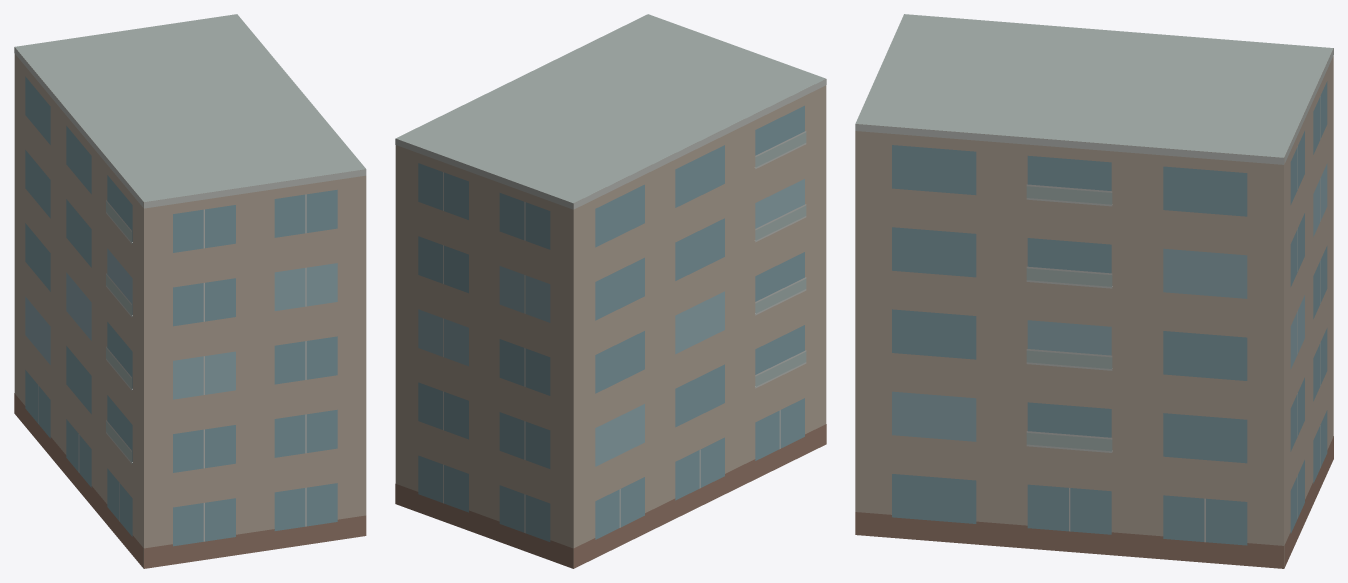
File: survey-upis-32537230.glb
The picture shows the model from 3 angles, left to right: view 1: azimuth 30°, elevation 25°; view 2: azimuth 150°, elevation 25°; view 3: azimuth 270°, elevation 25°; orthographic projection. The views are drawn at different scales.
Parts seen in each view (by area): view 1: survey-upis-32537230.tmp; view 2: survey-upis-32537230.tmp; view 3: survey-upis-32537230.tmp.
Part boxes in pixels (<box>): survey-upis-32537230.tmp: <box>14,14,366,568</box>; survey-upis-32537230.tmp: <box>395,14,826,568</box>; survey-upis-32537230.tmp: <box>855,14,1333,568</box>.
Size of the model in its own units: 10.55 by 14.05 by 14.83.
